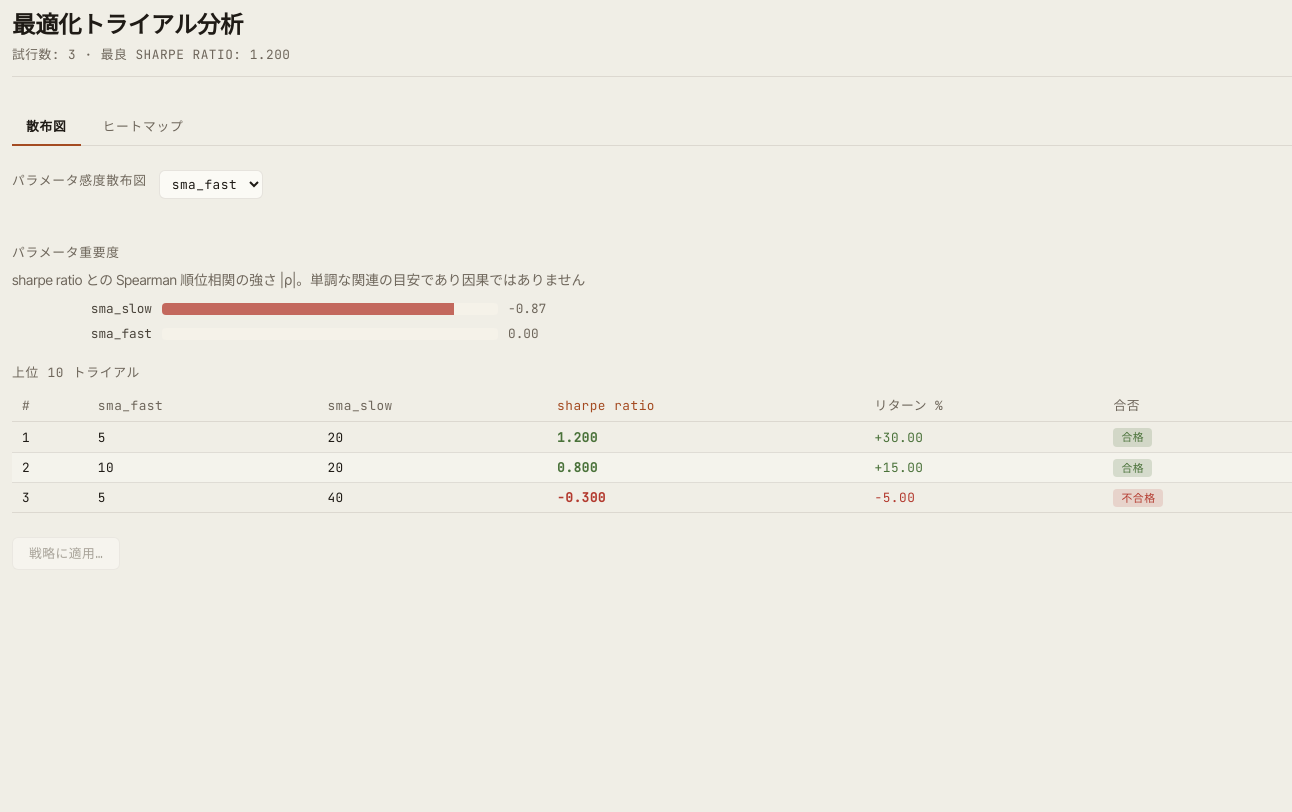
Test: <OptimizeScreen /> ビュー切替 › ヒートマップタブで X/Y/メトリクスのセレクタとヒートマップを表示する
Click the tab "ヒートマップ": (143, 128) [88,109,198,146]
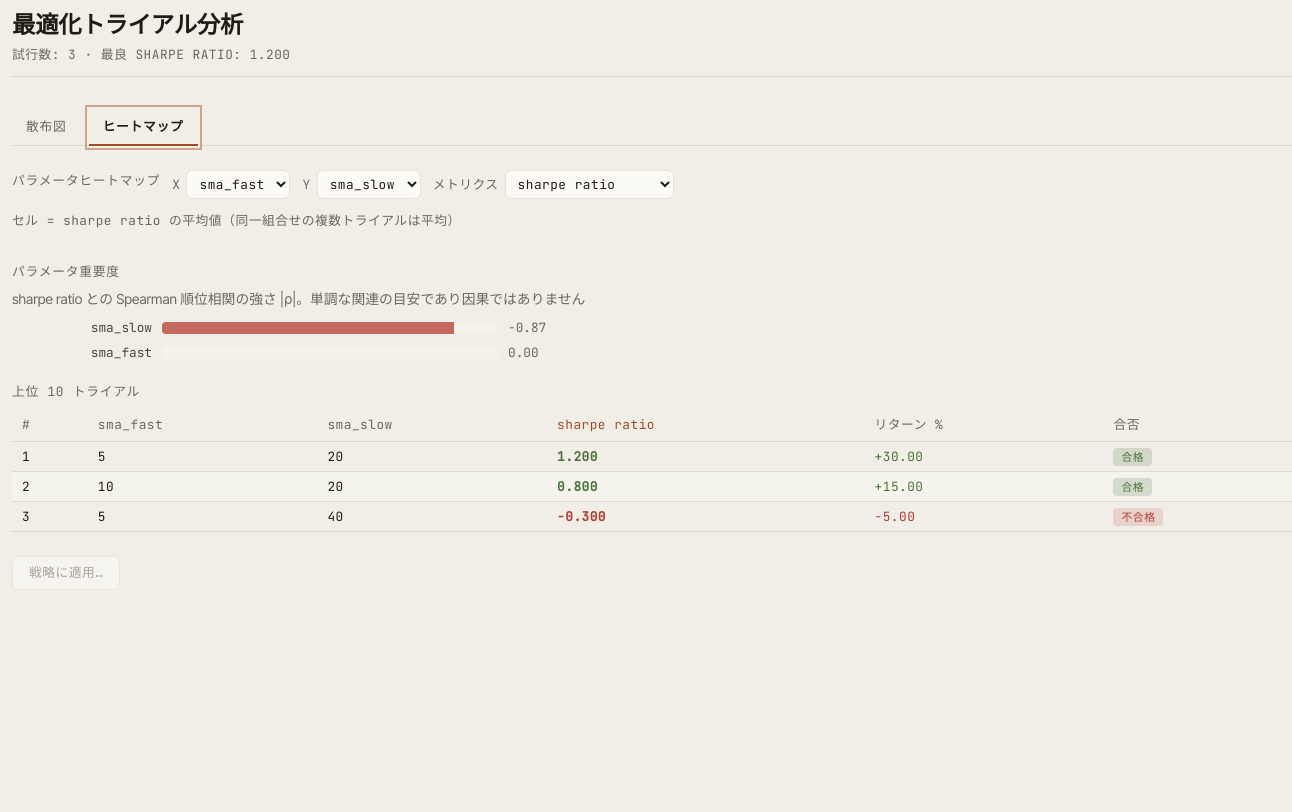
Expected: the dropdown named "X軸パラメータ" is shown, [186,170,290,199]
Expected: the dropdown named "Y軸パラメータ" is shown, [317,170,421,199]
Expected: the dropdown labelled "メトリクス" is shown, [505,170,674,199]
